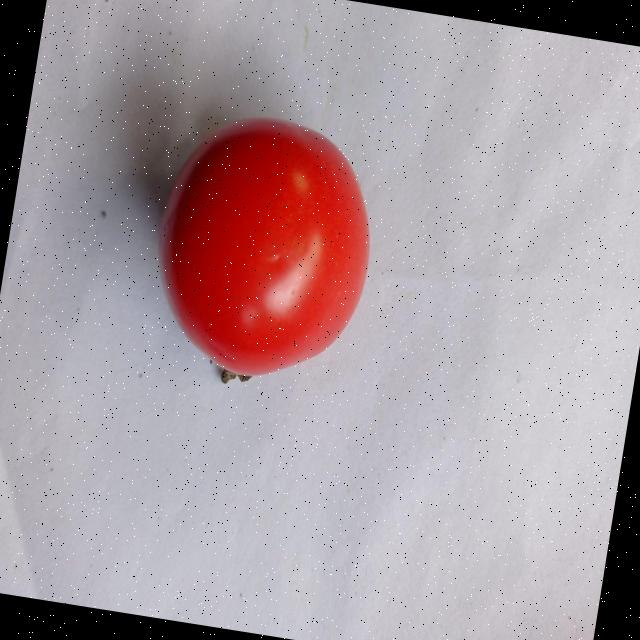Ripe: (132, 96, 393, 400)
